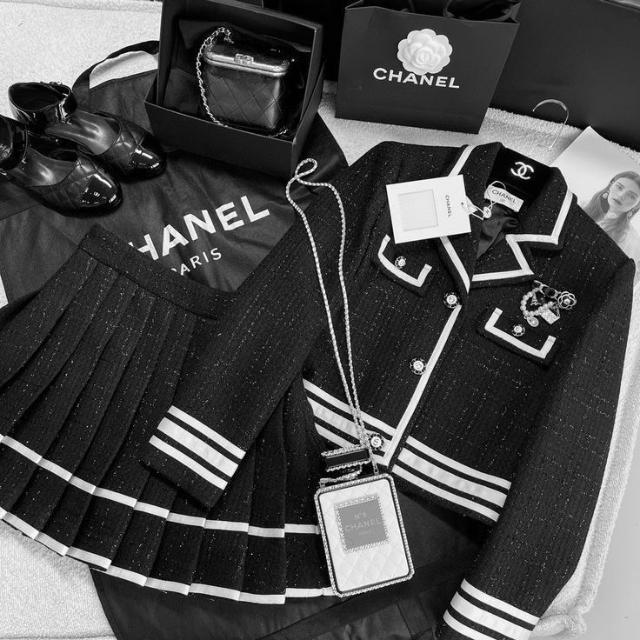Chanel: (89, 182, 282, 292), (367, 62, 463, 98), (332, 503, 406, 543), (508, 154, 542, 190)
